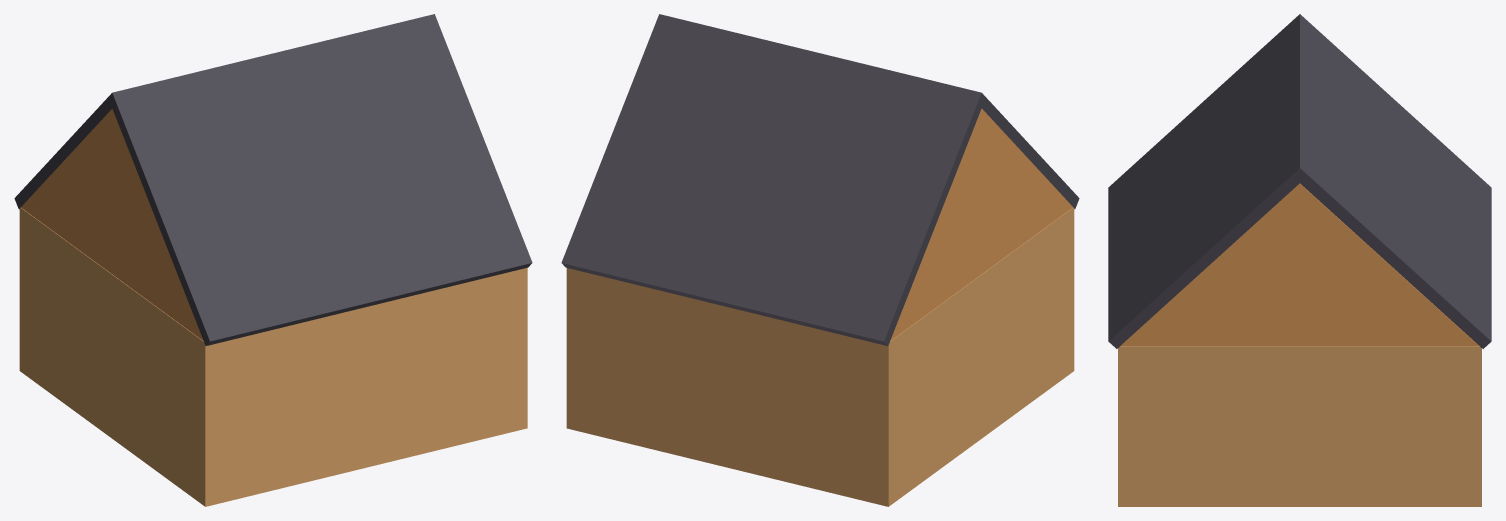
The picture shows the model from 3 angles, left to right: view 1: azimuth 30°, elevation 25°; view 2: azimuth 150°, elevation 25°; view 3: azimuth 270°, elevation 25°; orthographic projection. The views are drawn at different scales.
Parts seen in each view (by area): view 1: Roof-panel-pos-y.001, Room, Roof, Roof-panel-pos-y; view 2: Roof-panel-pos-y, Room, Roof, Roof-panel-pos-y.001; view 3: Room, Roof-panel-pos-y, Roof-panel-pos-y.001, Roof.
Part boxes in pixels (x1=…): Roof-panel-pos-y.001: x1=108, y1=14, x2=532, y2=345; Room: x1=19, y1=207, x2=527, y2=506; Roof: x1=21, y1=109, x2=203, y2=340; Roof-panel-pos-y: x1=14, y1=93, x2=112, y2=209; Roof-panel-pos-y: x1=561, y1=14, x2=981, y2=345; Room: x1=566, y1=207, x2=1074, y2=506; Roof: x1=890, y1=108, x2=1072, y2=340; Roof-panel-pos-y.001: x1=659, y1=14, x2=1079, y2=208; Room: x1=1118, y1=346, x2=1481, y2=506; Roof-panel-pos-y: x1=1292, y1=14, x2=1491, y2=348; Roof-panel-pos-y.001: x1=1108, y1=14, x2=1299, y2=348; Roof: x1=1121, y1=183, x2=1478, y2=345.
Size of the model in its own units: 200 by 206 by 210.
